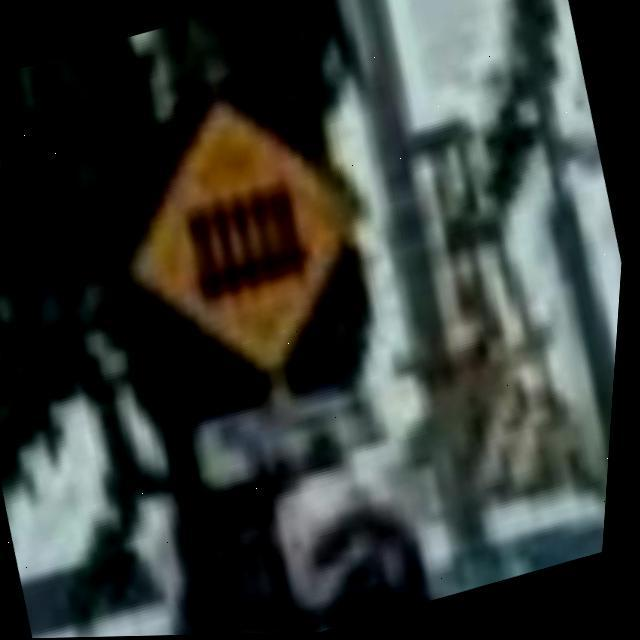Peringatan Perlintasan Kereta Api: (106, 80, 392, 392)
